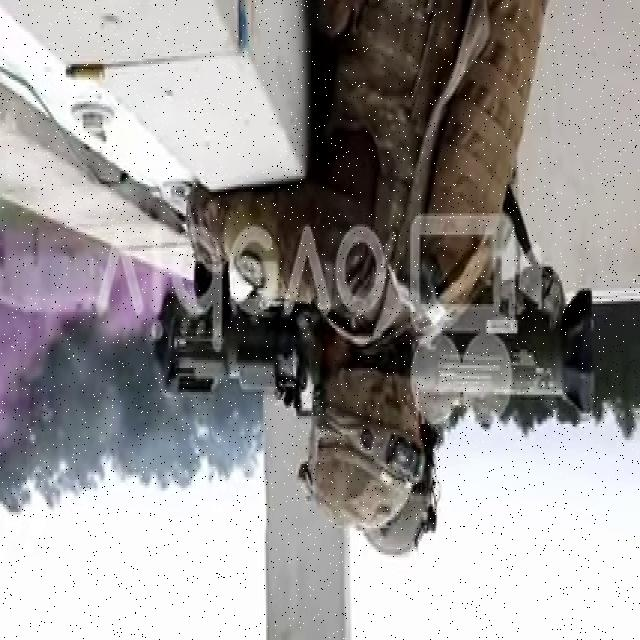bazooka: (144, 277, 604, 438)
